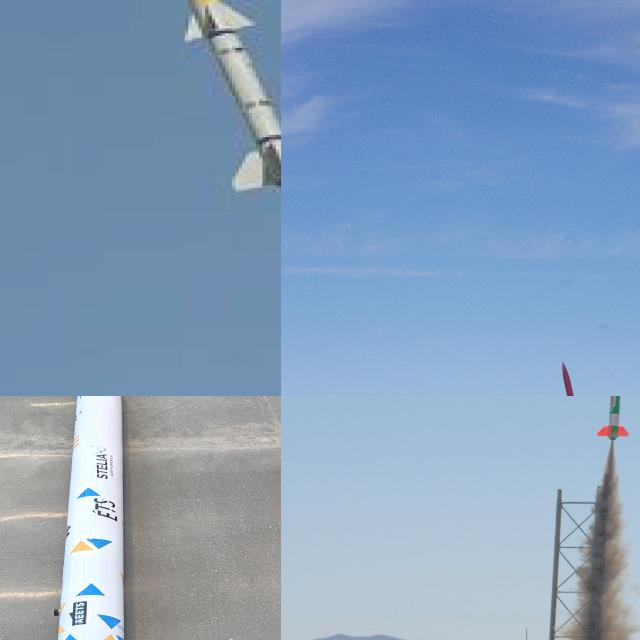Rocket: (115, 0, 281, 198), (53, 396, 125, 640), (596, 396, 630, 440), (561, 361, 586, 396)
